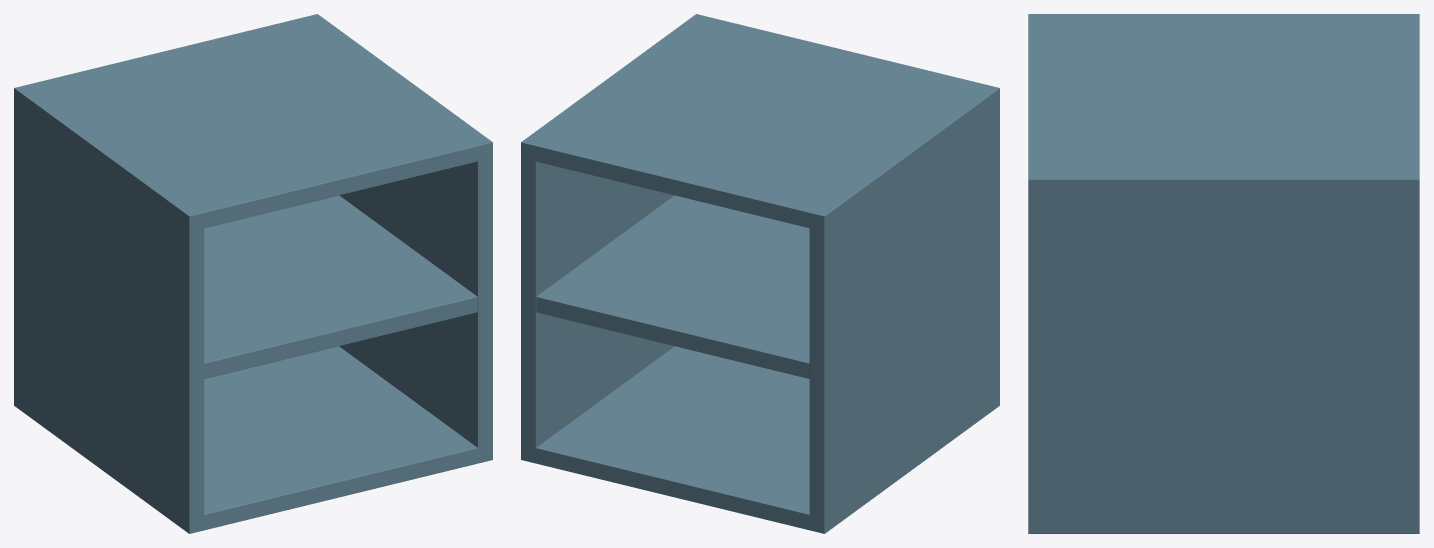
Rendered from MOD-1X1-S-O-AC.glb.
3 renders of one model, left to right at view 1: azimuth 30°, elevation 25°; view 2: azimuth 150°, elevation 25°; view 3: azimuth 270°, elevation 25°, orthographic. The views are drawn at different scales.
Size of the model in its own units: 360 by 360 by 360.
